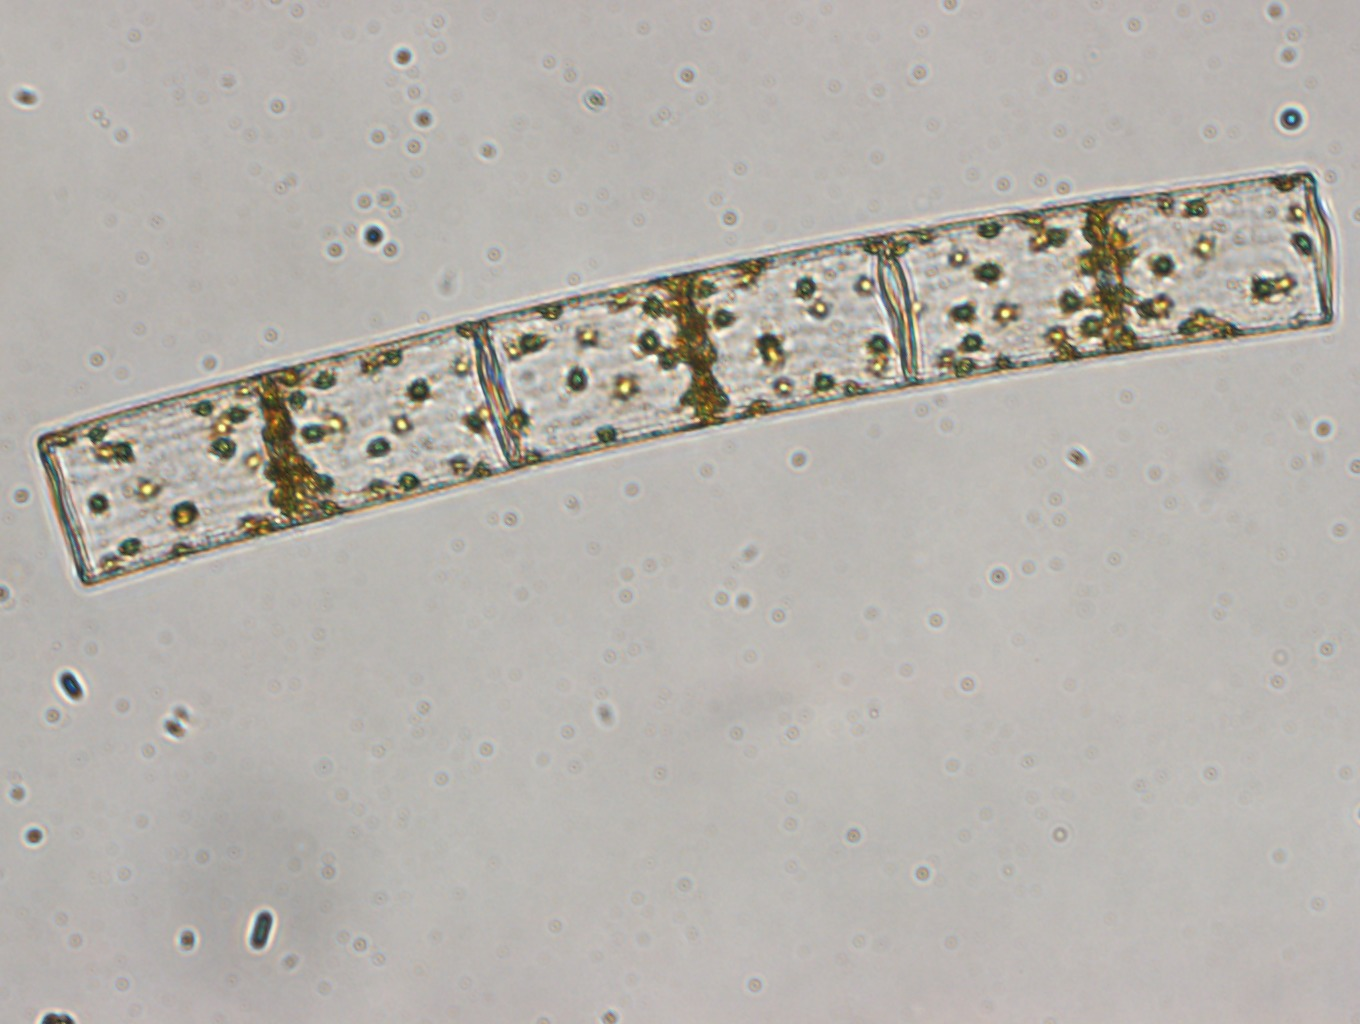guinardia flaccida: (35, 166, 1338, 589)
